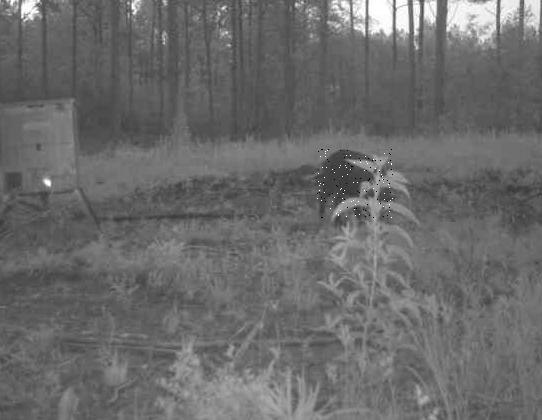Hog: (317, 150, 393, 220)
